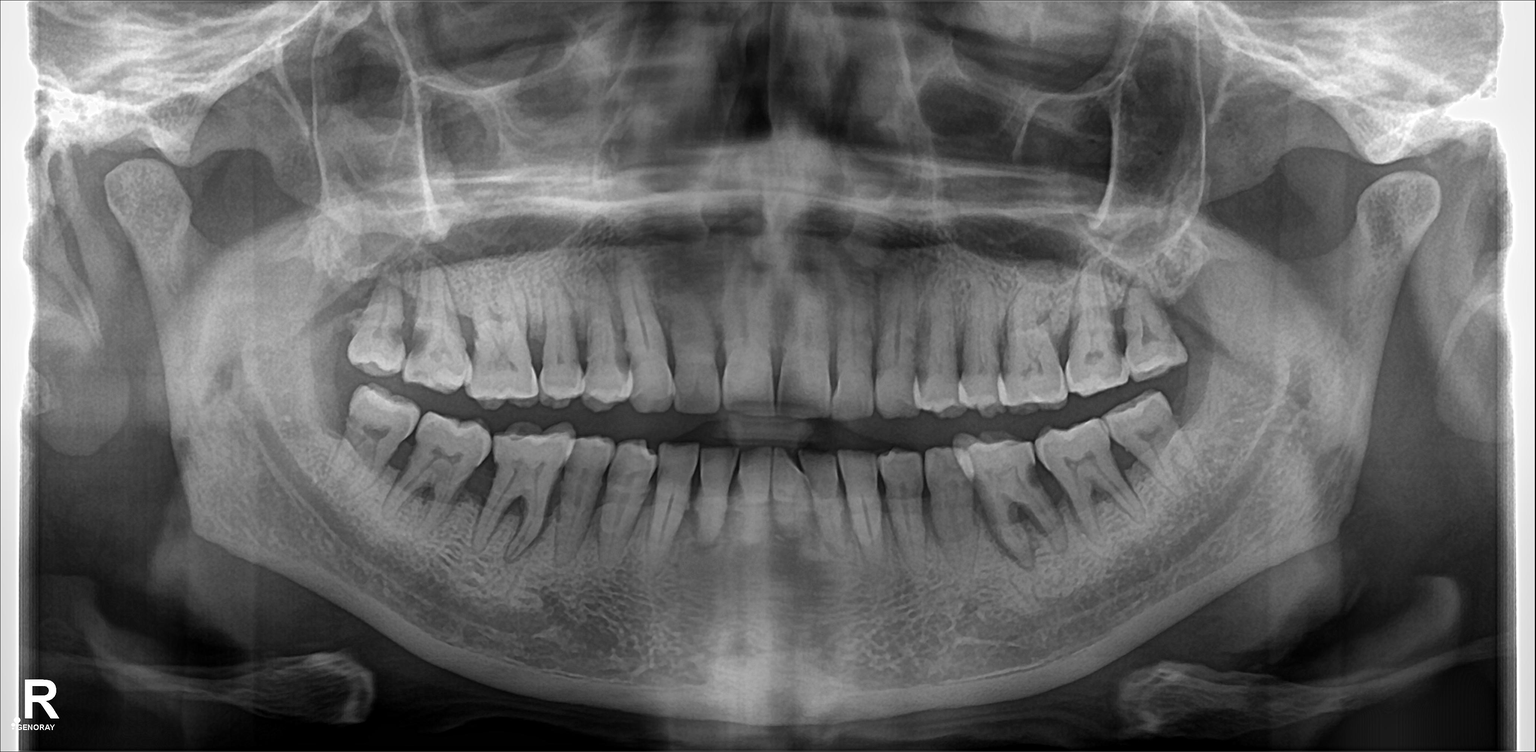Dental Caries: (402, 322, 432, 358)
Missing Tooth: (320, 262, 365, 374)
